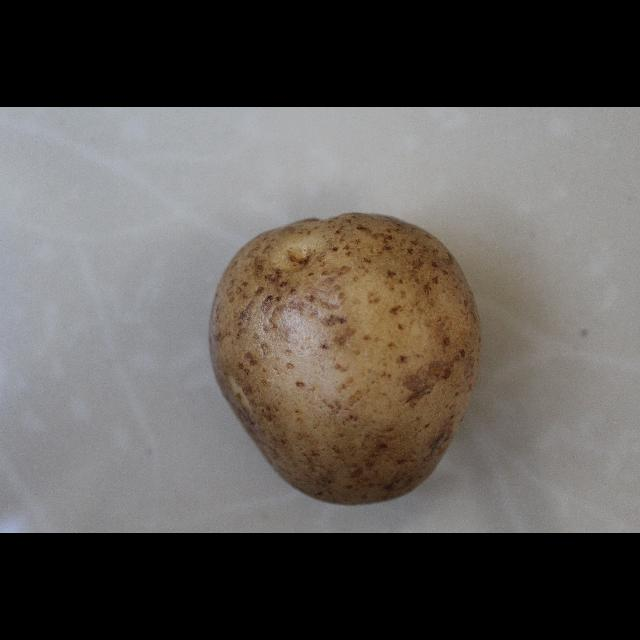Diseased-fungal potato: (203, 213, 479, 512)
